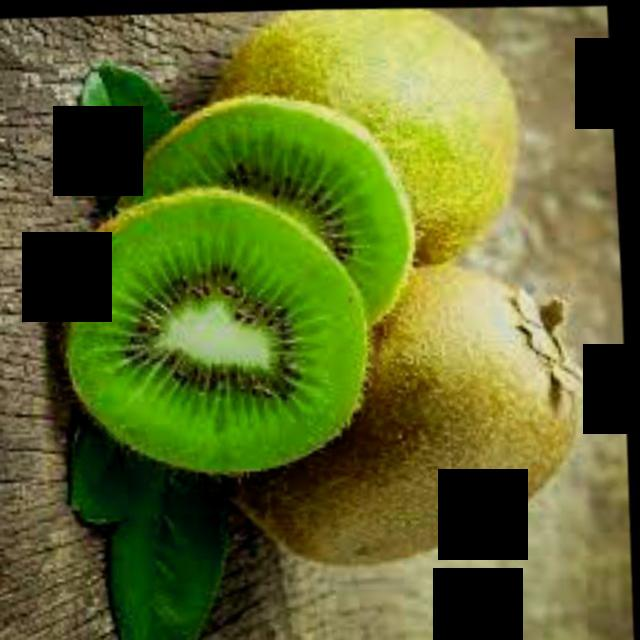kiwi: (214, 256, 605, 576)
